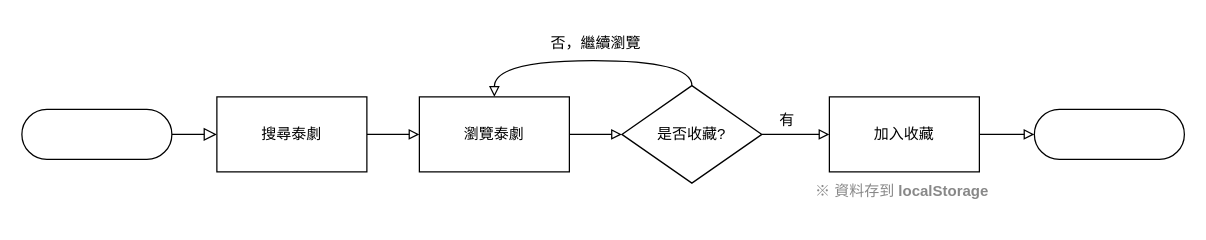
This 1206x240 diagram has some shape labels left out. The box of each missing label's shape, as (x1, y1, x2, y2) in pixels:
查看我的清單: (1033, 108, 1184, 159)
訪問網站: (21, 108, 172, 159)
